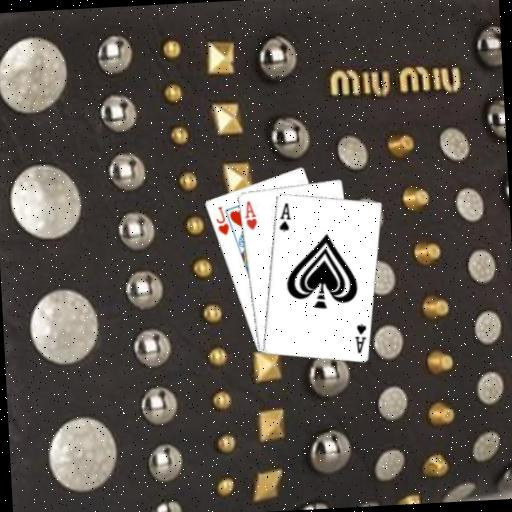AH: (241, 198, 258, 232)
AS: (352, 320, 369, 355), (275, 200, 293, 233)
JH: (212, 203, 231, 237)
